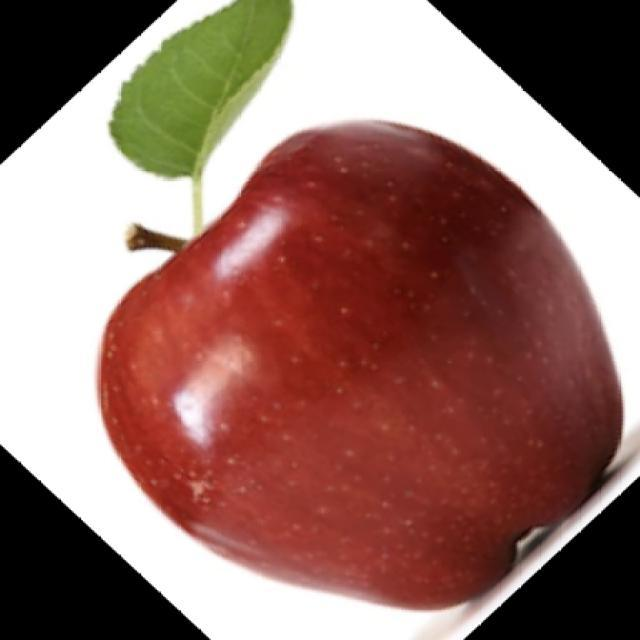Fresh Apple: (96, 142, 626, 635)
